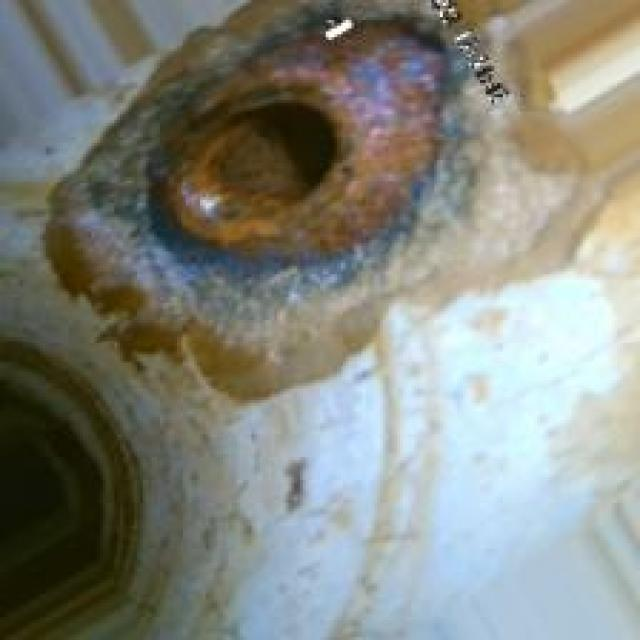ferrule: (126, 48, 460, 272)
